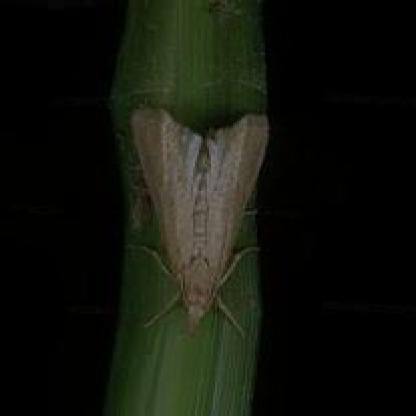stem-borer: (129, 106, 261, 338)
